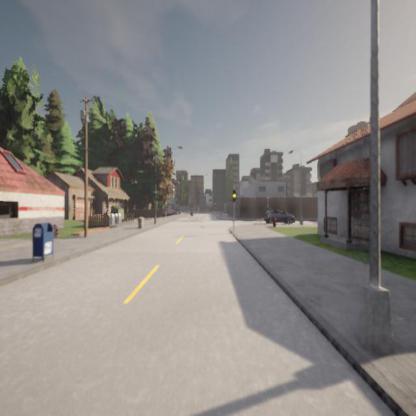traffic_light_orange: (231, 192, 236, 201)
vehicle: (266, 212, 296, 226)
